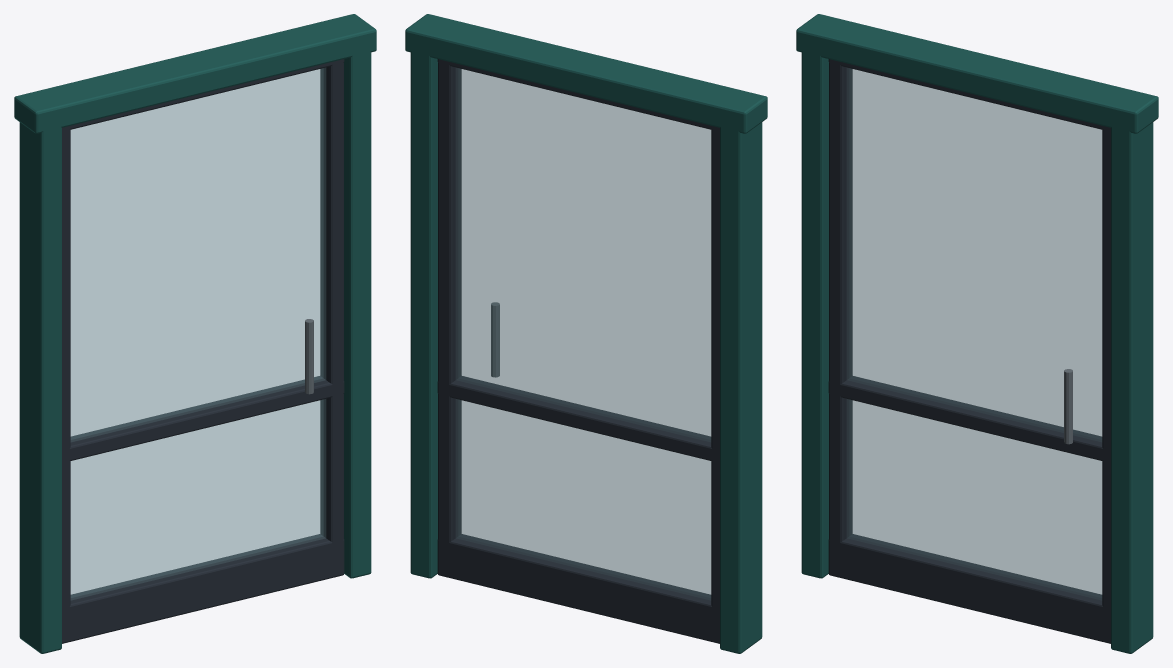
File: entrance.glb
3 views of the same model, side by side, from view 1: azimuth 30°, elevation 25°; view 2: azimuth 150°, elevation 25°; view 3: azimuth 330°, elevation 25° (orthographic).
Parts seen in each view (by area): view 1: door glass, shell-apt-teal--1, door rail, door stile.001, door rail.001, door stile, door rail.002, entry pull; view 2: door glass, shell-apt-teal--1, door rail, door stile.001, door rail.001, door stile, door rail.002, entry pull; view 3: door glass, shell-apt-teal--1, door rail, door stile, door rail.001, door stile.001, door rail.002, entry pull.
Boxes of the visible parts, box(x1,y1,x2,y2) form: door glass: box(70, 68, 325, 600); shell-apt-teal--1: box(14, 14, 376, 653); door rail: box(62, 534, 344, 643); door stile.001: box(320, 59, 343, 575); door rail.001: box(62, 376, 344, 461); door stile: box(62, 127, 70, 642); door rail.002: box(62, 59, 344, 130); entry pull: box(305, 319, 313, 394); door glass: box(456, 68, 711, 600); shell-apt-teal--1: box(405, 14, 767, 653); door rail: box(437, 534, 719, 643); door stile.001: box(438, 60, 461, 575); door rail.001: box(437, 376, 719, 461); door stile: box(711, 126, 719, 641); door rail.002: box(437, 59, 719, 130); entry pull: box(491, 302, 499, 377); door glass: box(847, 68, 1102, 600); shell-apt-teal--1: box(796, 14, 1158, 653); door rail: box(828, 534, 1110, 643); door stile: box(829, 60, 852, 575); door rail.001: box(828, 376, 1110, 461); door stile.001: box(1102, 126, 1110, 642); door rail.002: box(828, 59, 1110, 130); entry pull: box(1064, 369, 1072, 444).
Size of the model in its own units: 1.9 by 2.89 by 0.242.
